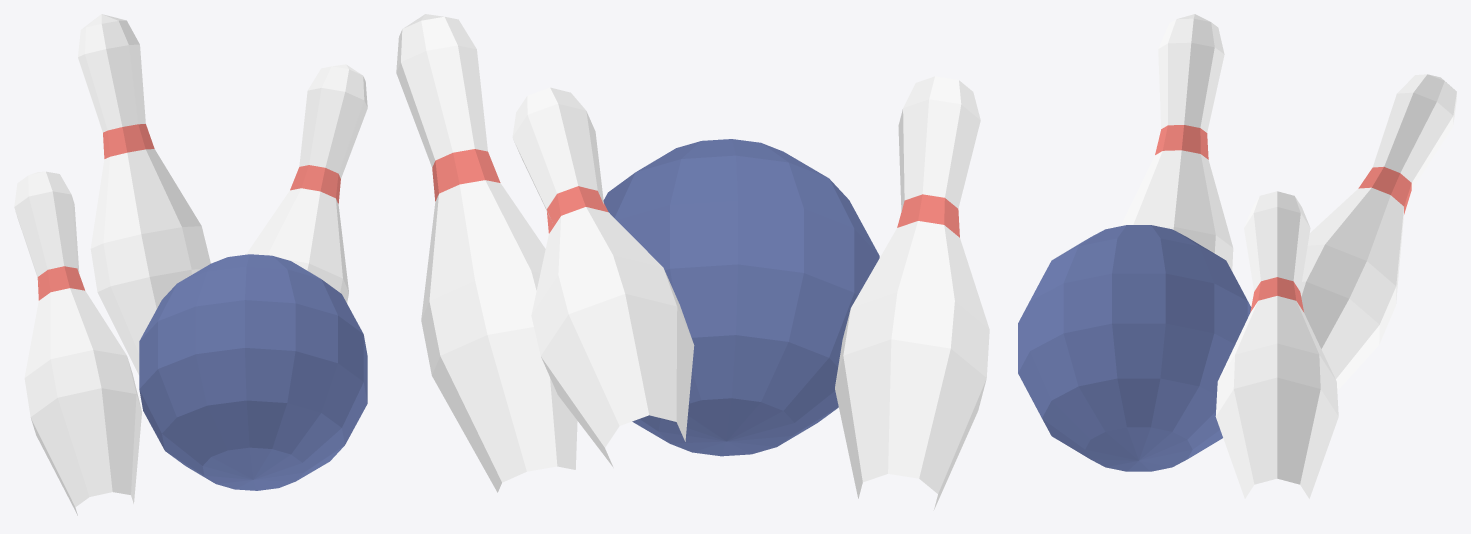
File: ps2_save-icons_strikeforcebowling.glb
The picture shows the model from 3 angles, left to right: view 1: azimuth 30°, elevation 25°; view 2: azimuth 150°, elevation 25°; view 3: azimuth 270°, elevation 25°; orthographic projection. The views are drawn at different scales.
Visible parts, largest first — view 1: static.ico; view 2: static.ico; view 3: static.ico.
Boxes of the visible parts, <box> form: static.ico: <box>14,14,367,515</box>; static.ico: <box>396,14,989,510</box>; static.ico: <box>1018,14,1456,498</box>.
Size of the model in its own units: 4.47 by 4.07 by 4.18.
Materials: 1 (1 with a texture image).
